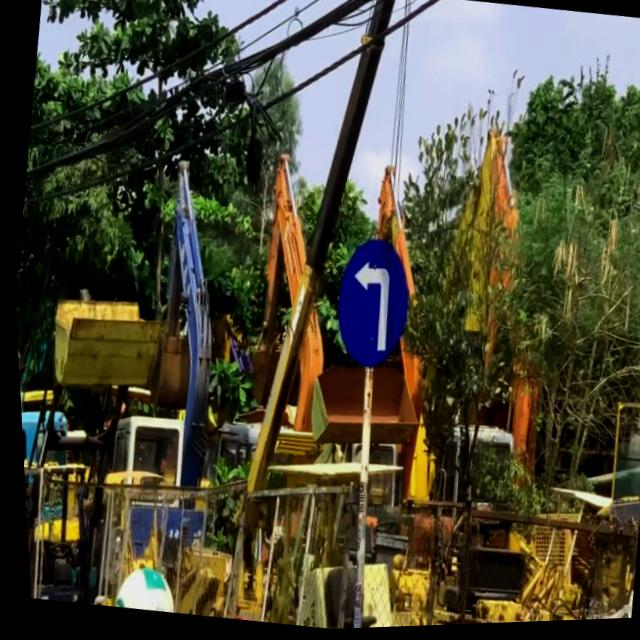Cac xe chi duoc re trai: (325, 238, 417, 376)
